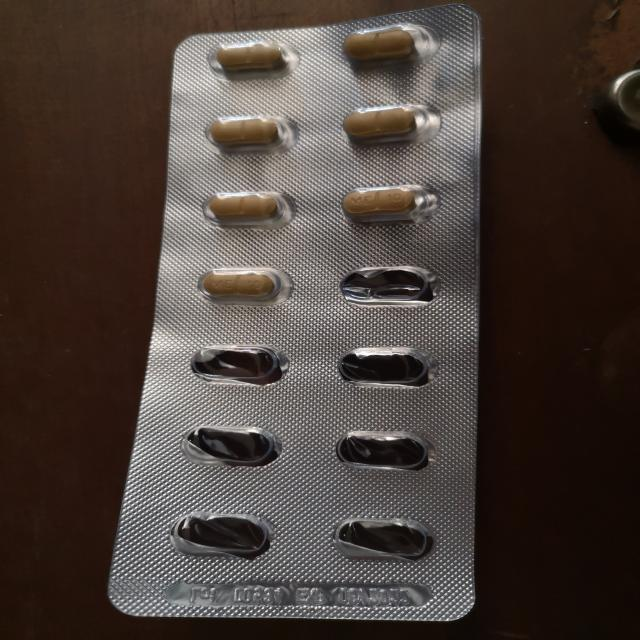Empty: (326, 512, 441, 566), (165, 508, 276, 560), (174, 418, 286, 469), (186, 338, 296, 389), (332, 342, 442, 391), (333, 264, 444, 309), (329, 427, 436, 473)
Pill: (338, 100, 436, 148), (198, 184, 300, 230), (338, 182, 440, 227), (191, 264, 298, 306), (331, 23, 446, 62), (197, 36, 302, 78), (199, 111, 301, 154)
